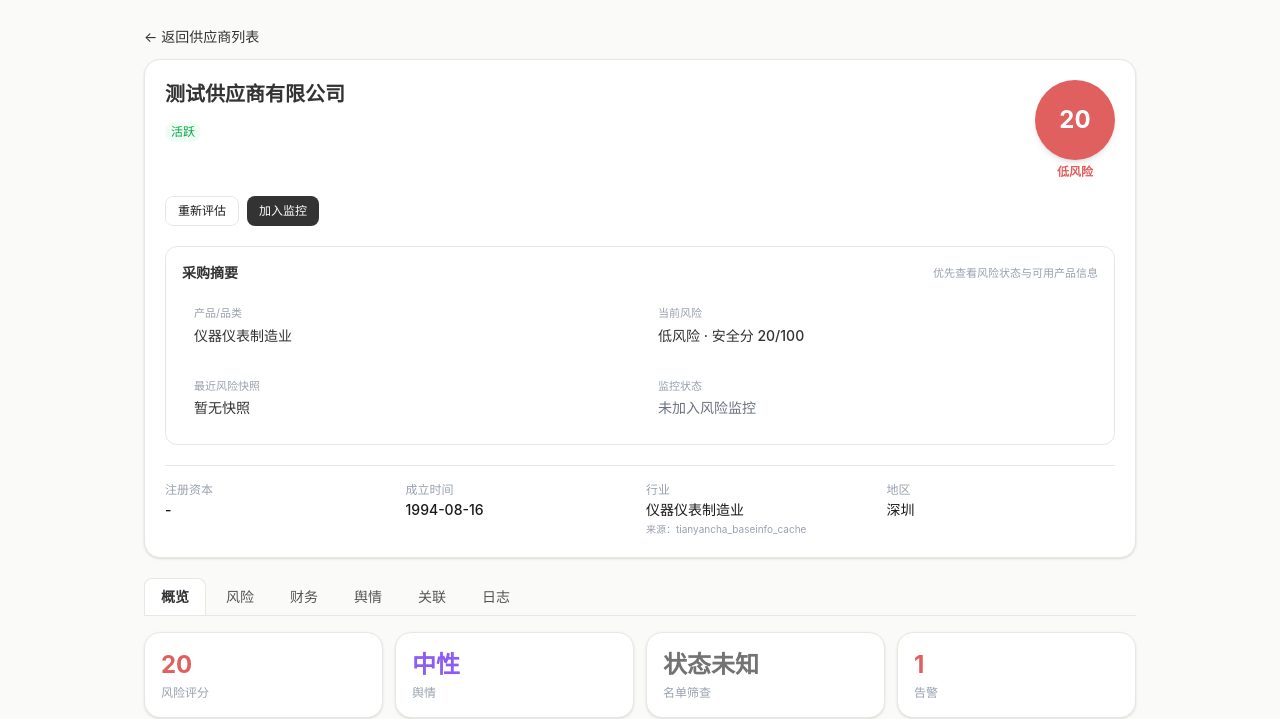
Test case: SupplierProfilePage › labels supplier-month data as internal procurement evidence
Expected: the heading "测试供应商有限公司" is shown, [165,82,345,106]
Click the button "风险".
click(240, 596)  # box [210,578,270,615]
(page scrolled)
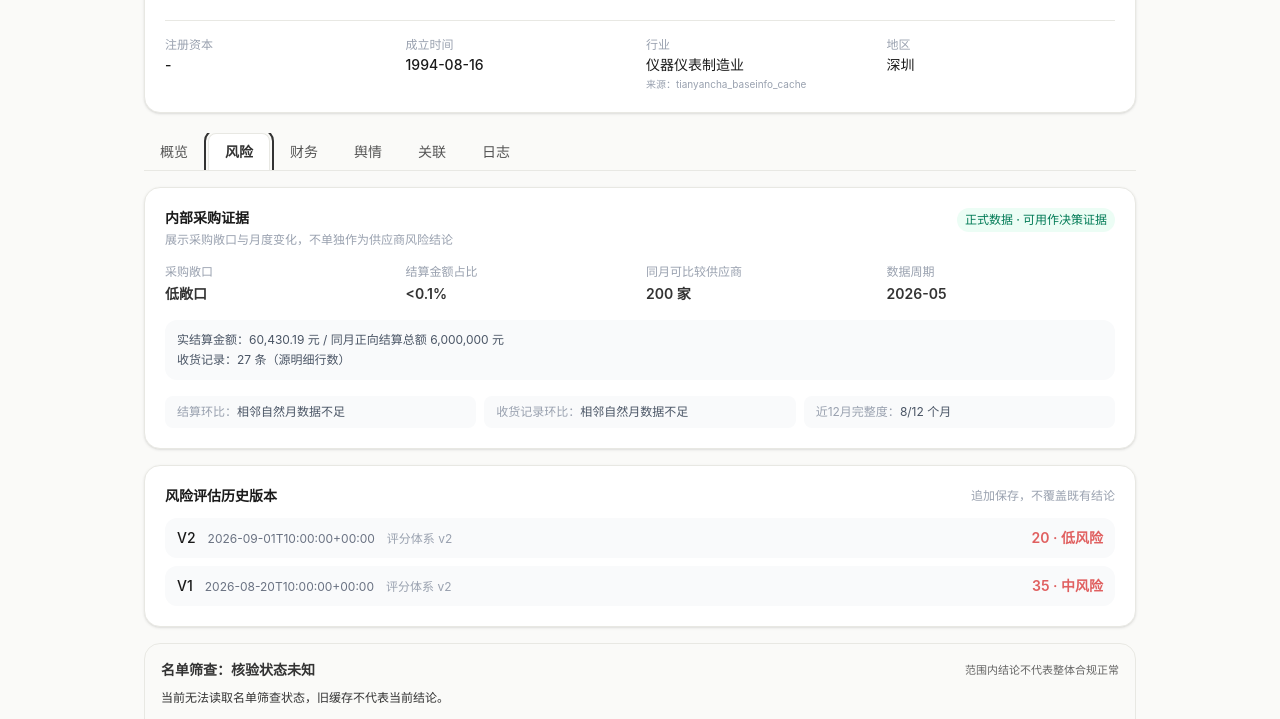
Expected: the heading "内部采购证据" is shown, [165,209,249,226]
Expected: the text "结算金额占比" is shown, [406,264,478,279]
Expected: the text "低敞口" is shown, [165,285,207,302]
